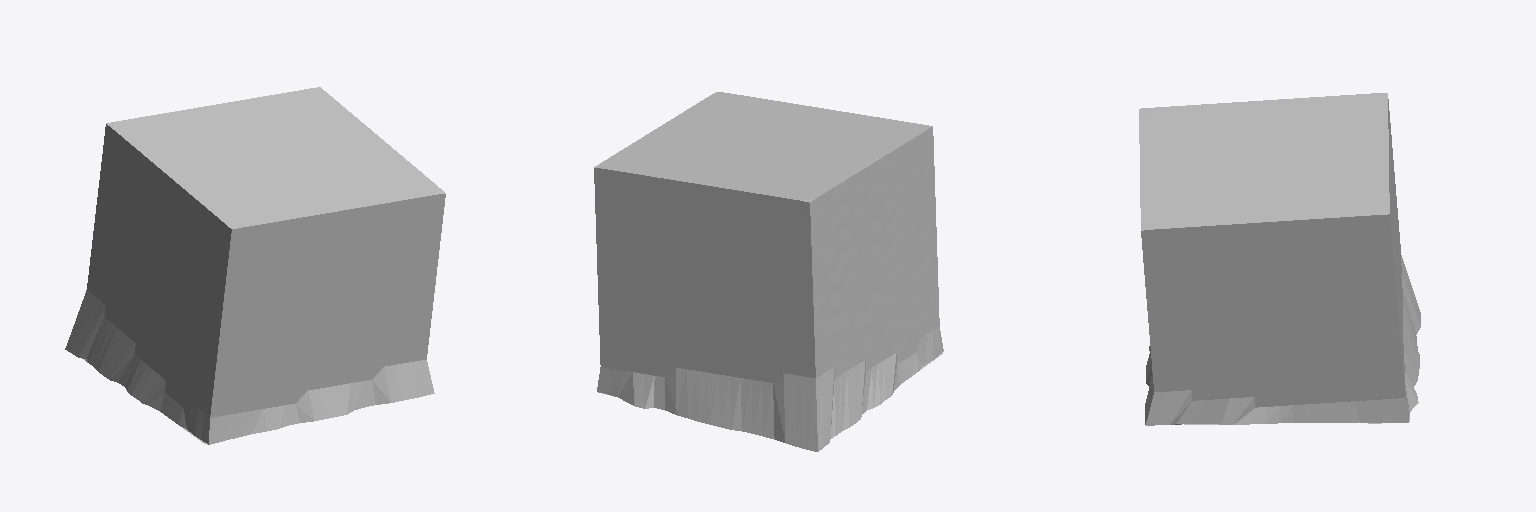
The model's file is mod0010.obj.
3 views of the same model, side by side, from view 1: azimuth 30°, elevation 25°; view 2: azimuth 150°, elevation 25°; view 3: azimuth 270°, elevation 25° (orthographic).
Visible parts, largest first — view 1: Box001; view 2: Box001; view 3: Box001.
Boxes of the visible parts, x1=… form: Box001: x1=65, y1=87, x2=445, y2=444; Box001: x1=594, y1=92, x2=943, y2=451; Box001: x1=1139, y1=93, x2=1420, y2=425.
Size of the model in its own units: 0.6019 by 0.555 by 0.61.